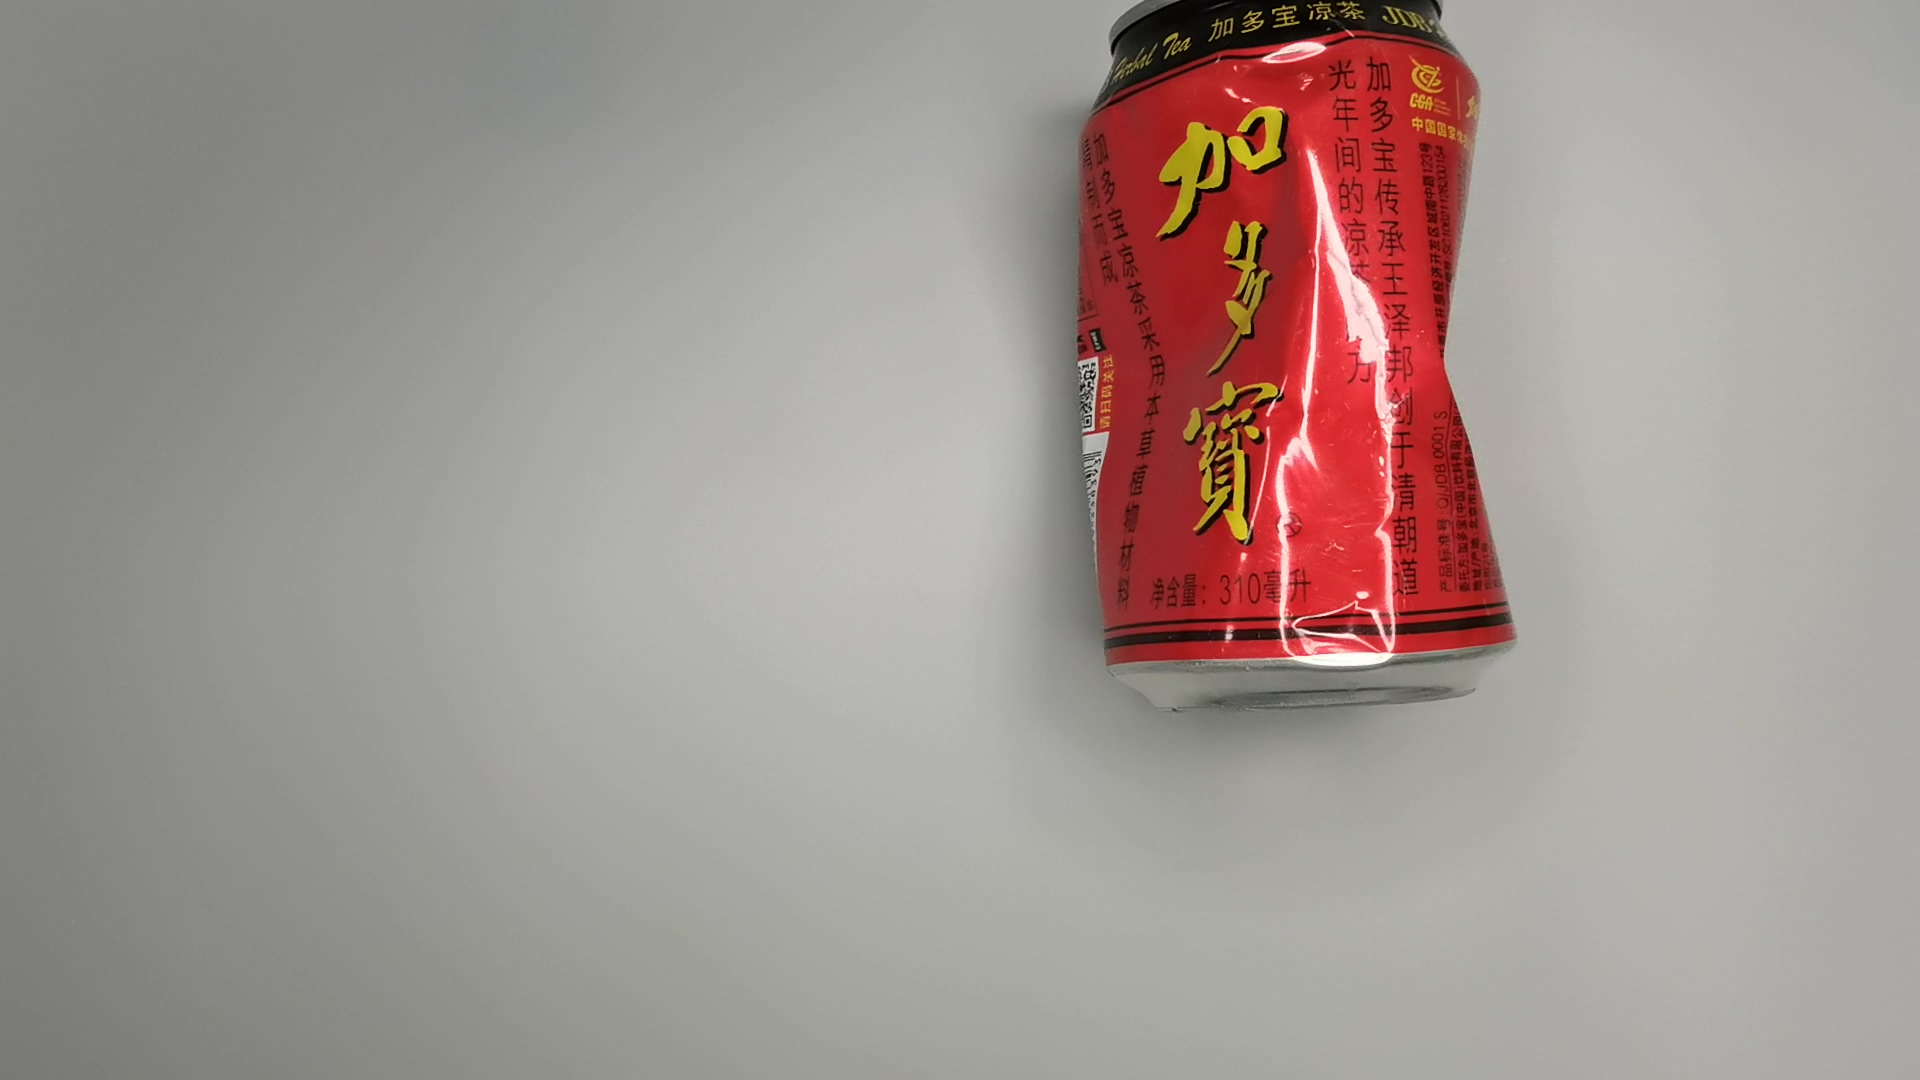can: (1065, 1, 1520, 746)
